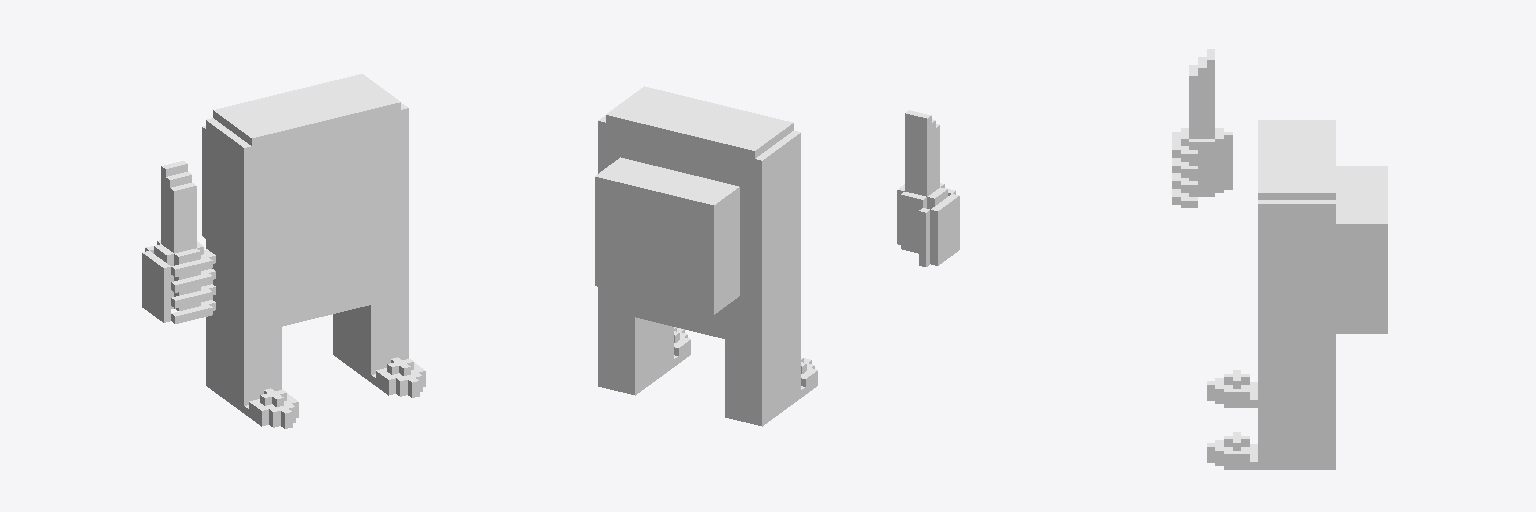
The model's file is amogus.obj.
3 views of the same model, side by side, from view 1: azimuth 30°, elevation 25°; view 2: azimuth 150°, elevation 25°; view 3: azimuth 270°, elevation 25° (orthographic).
Visible parts, largest first — view 1: object 1; view 2: object 1; view 3: object 1.
Boxes of the visible parts, <box> form: object 1: <box>142,74,425,428</box>; object 1: <box>595,86,959,426</box>; object 1: <box>1172,49,1387,469</box>.
Bounding box in the file's own units: 3.8 × 3.7 × 2.5.